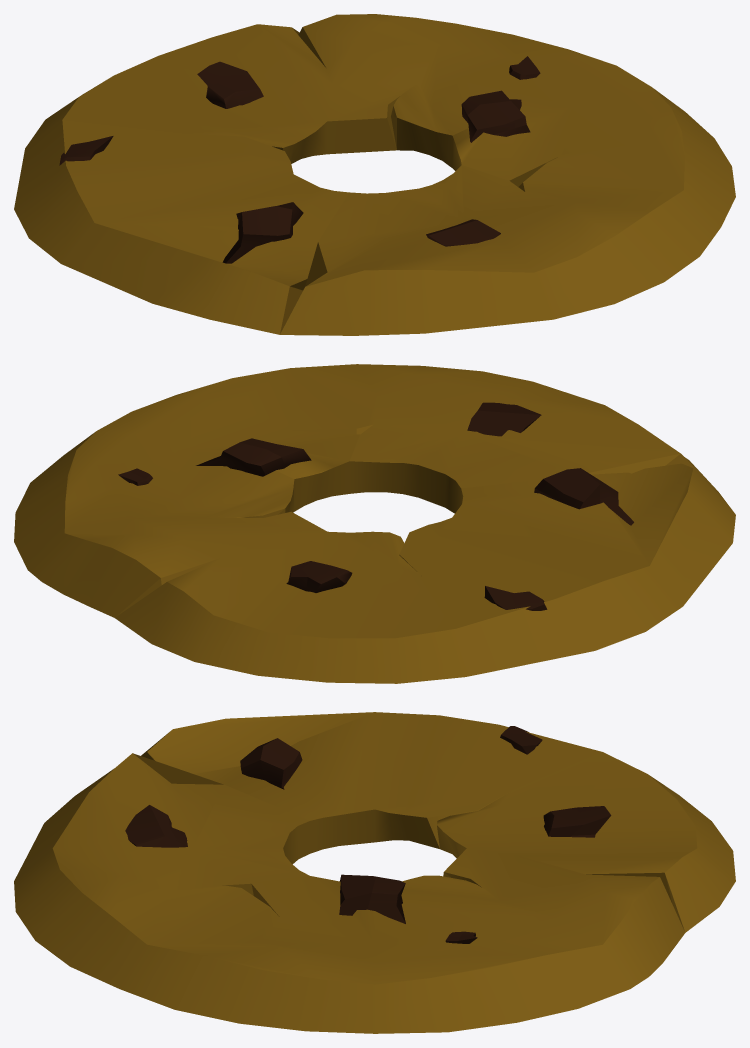
3 views of the same model, one above another, from view 1: azimuth 30°, elevation 25°; view 2: azimuth 150°, elevation 25°; view 3: azimuth 270°, elevation 25° (orthographic).
Parts seen in each view (by area): view 1: SM_Base; view 2: SM_Base; view 3: SM_Base.
Part boxes in pixels (x1,y1,x2,y2): SM_Base: [14, 14, 735, 335]; SM_Base: [14, 364, 735, 683]; SM_Base: [14, 712, 735, 1033].
Size of the model in its own units: 3.25 by 0.3033 by 3.25.
